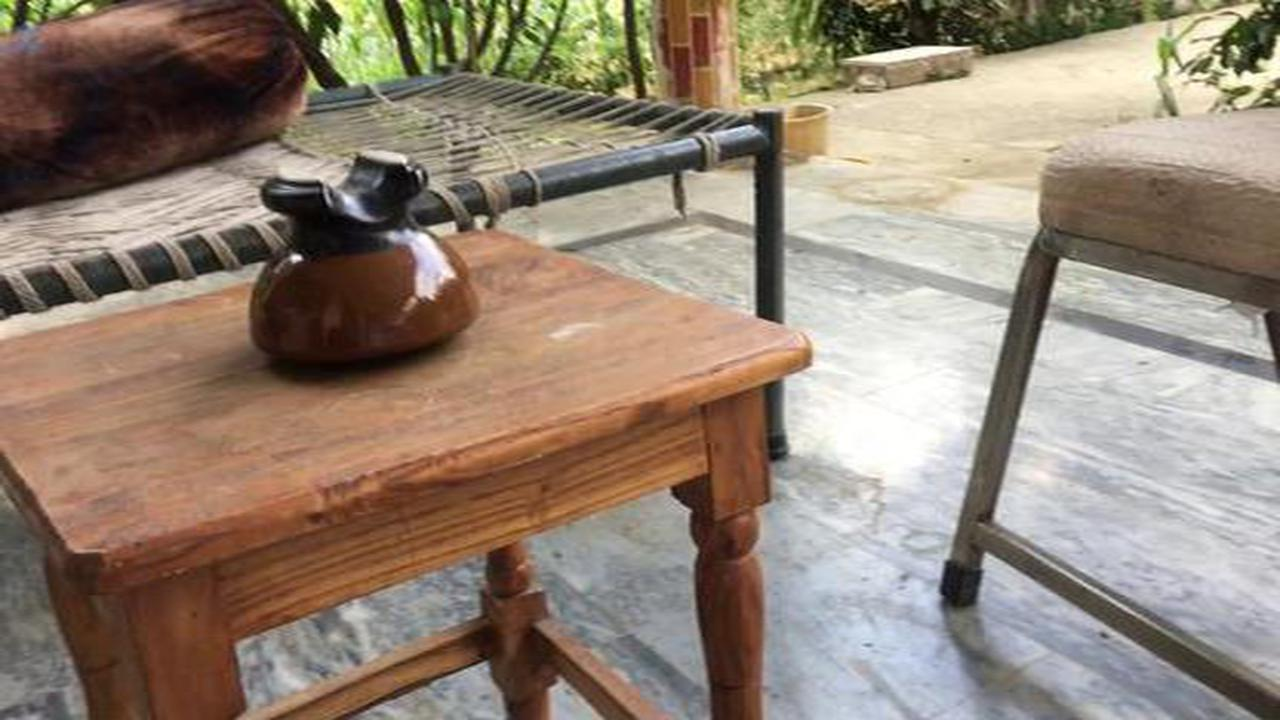insulator_pin: (228, 137, 487, 374)
